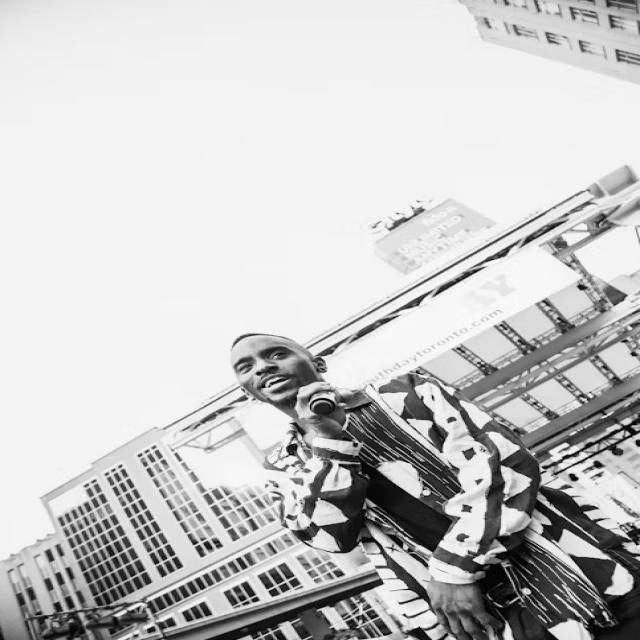Edited images: (199, 312, 607, 640)
